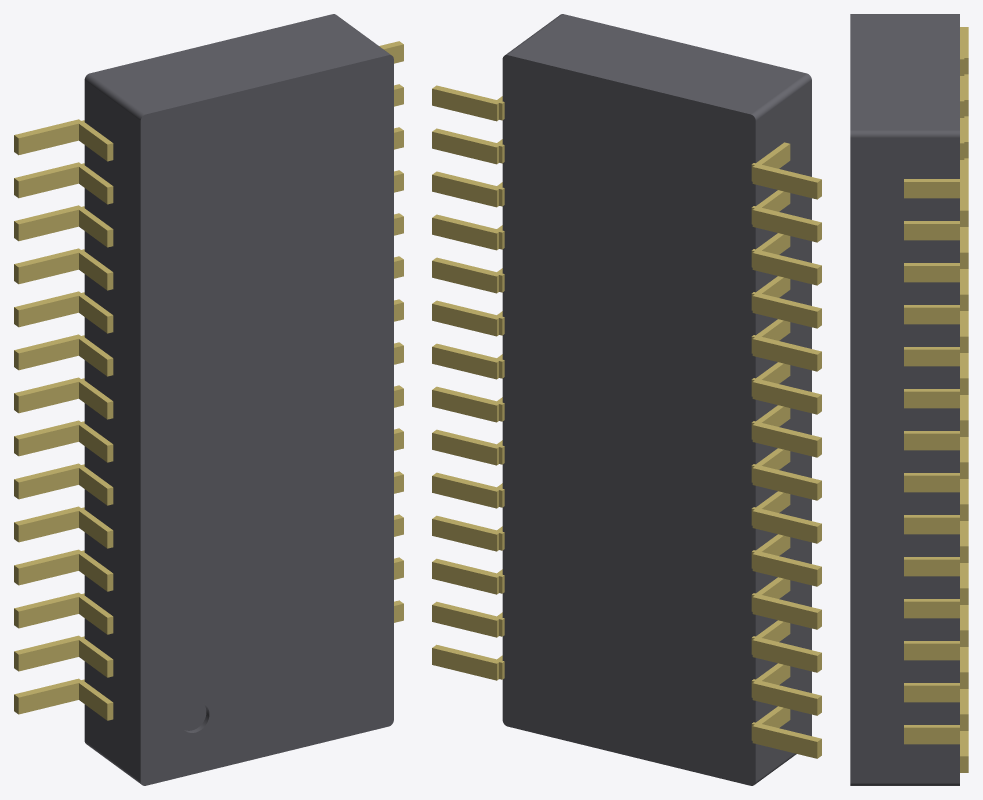
Rendered from ttp226.glb.
The picture shows the model from 3 angles, left to right: view 1: azimuth 30°, elevation 25°; view 2: azimuth 150°, elevation 25°; view 3: azimuth 270°, elevation 25°; orthographic projection. The views are drawn at different scales.
Parts seen in each view (by area): view 1: extra, pins; view 2: extra, pins; view 3: extra, pins.
Boxes of the visible parts, x1,y1,x2,y2 form: extra: [84, 14, 393, 785]; pins: [14, 41, 403, 720]; extra: [502, 14, 811, 785]; pins: [432, 85, 821, 758]; extra: [850, 14, 959, 785]; pins: [904, 27, 968, 772].
Size of the model in its own units: 5.95 by 9.91 by 1.62.
